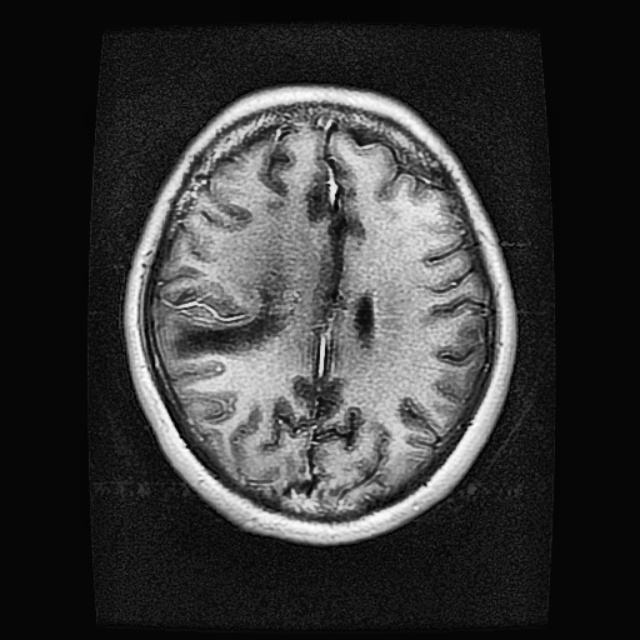Glioma: (174, 298, 285, 355)
